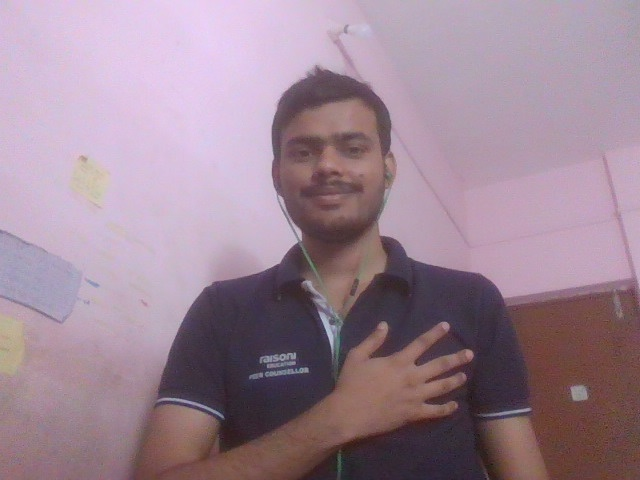Please: (254, 308, 576, 480)
